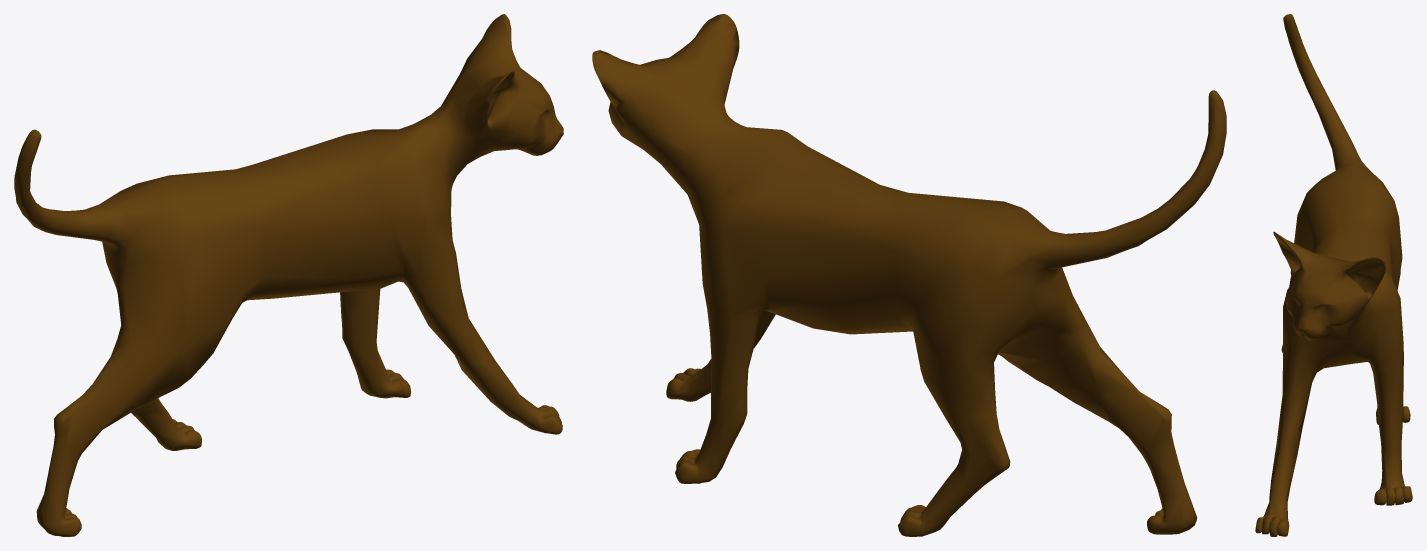
The model's file is cat_lowpoly.glb.
3 renders of one model, left to right at view 1: azimuth 30°, elevation 25°; view 2: azimuth 150°, elevation 25°; view 3: azimuth 270°, elevation 25°, orthographic. The views are drawn at different scales.
Visible parts, largest first — view 1: CAT; view 2: CAT; view 3: CAT.
Boxes of the visible parts, <box> form: CAT: <box>14,14,563,536</box>; CAT: <box>592,14,1226,536</box>; CAT: <box>1255,14,1412,536</box>.
Size of the model in its own units: 0.672 by 0.4807 by 0.2099.
